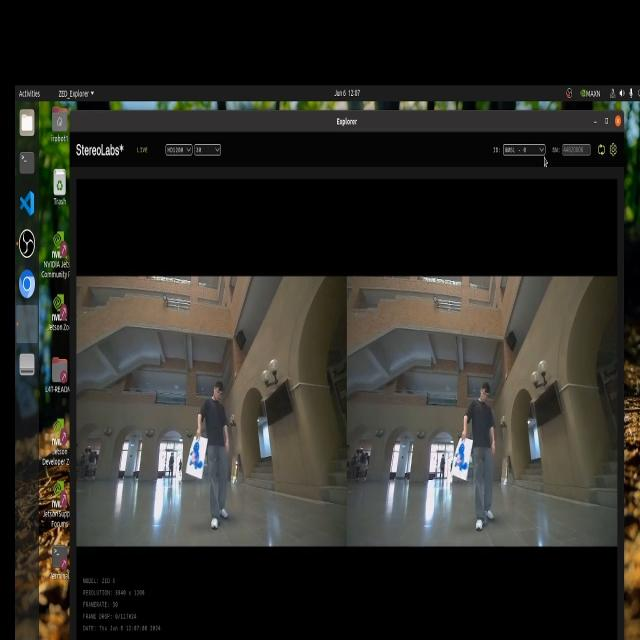blue: (190, 435, 206, 475), (454, 439, 469, 479)
